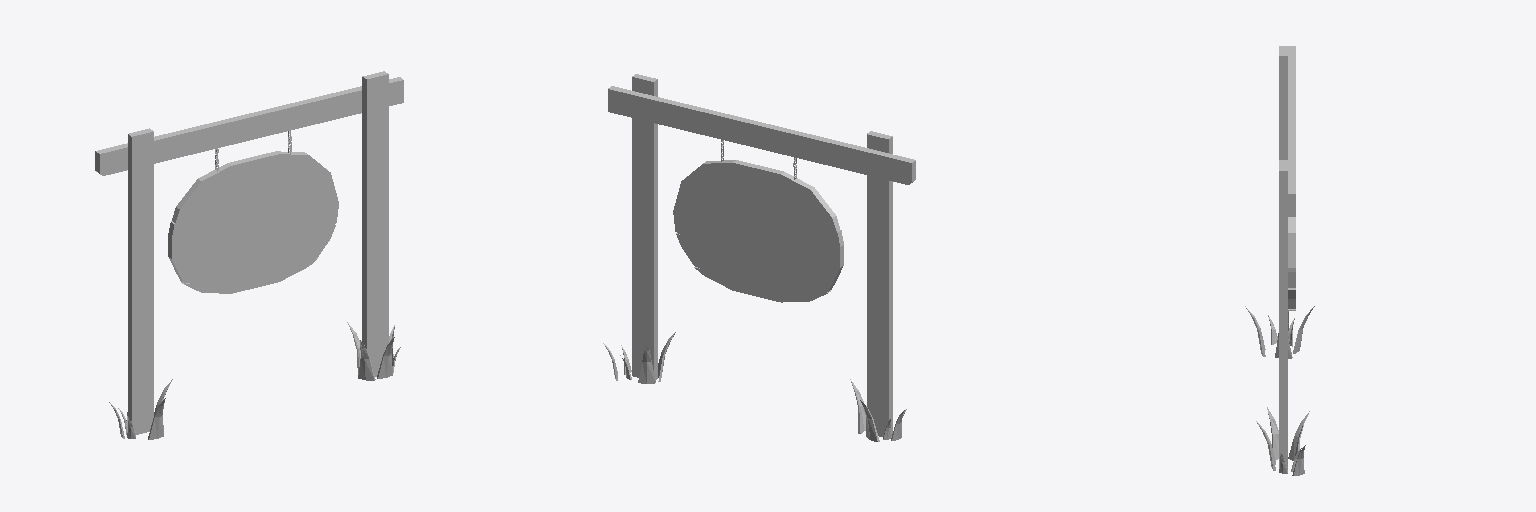
File: Sign2.obj
The picture shows the model from 3 angles: view 1: azimuth 30°, elevation 25°; view 2: azimuth 150°, elevation 25°; view 3: azimuth 270°, elevation 25°; orthographic projection.
Parts seen in each view (by area): view 1: Sign2; view 2: Sign2; view 3: Sign2.
Boxes of the visible parts, <box> form: Sign2: <box>95,71,403,439</box>; Sign2: <box>603,74,915,441</box>; Sign2: <box>1245,46,1314,475</box>.
Bounding box in the file's own units: 2.21 × 2.08 × 0.4436.